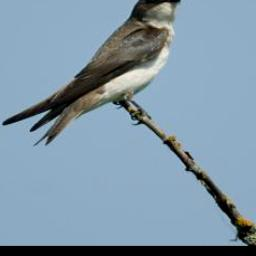Swallow: (2, 0, 185, 146)
